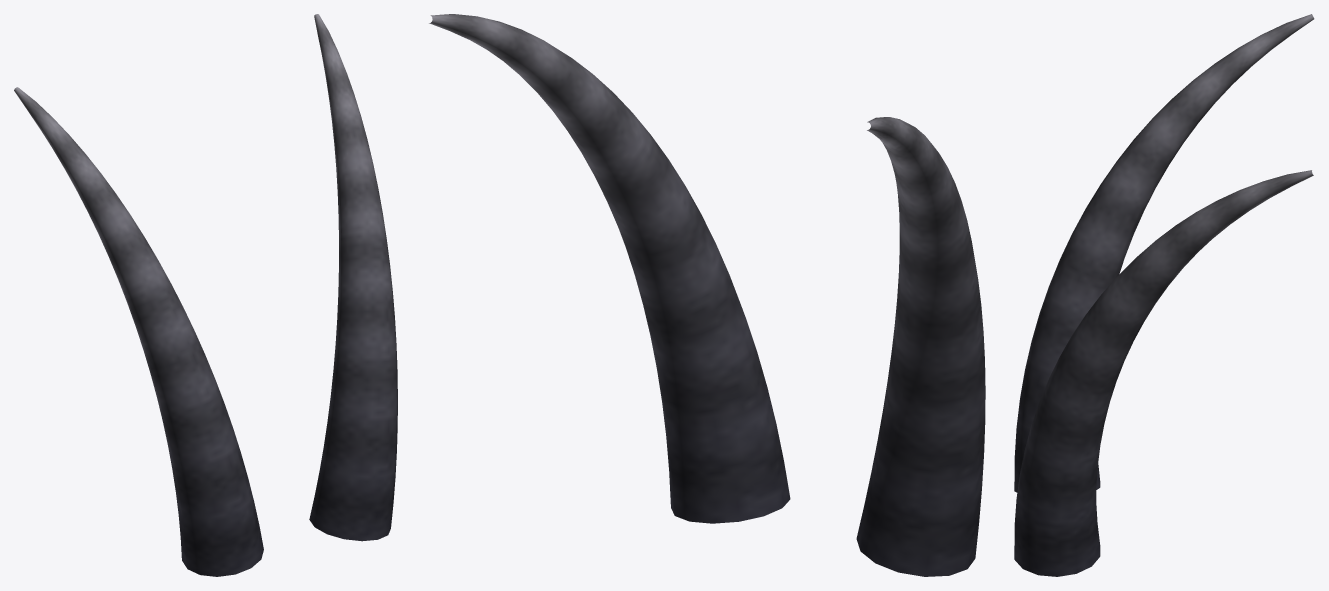
The model's file is darkjak-horns.glb.
3 views of the same model, side by side, from view 1: azimuth 30°, elevation 25°; view 2: azimuth 150°, elevation 25°; view 3: azimuth 270°, elevation 25° (orthographic). The views are drawn at different scales.
Visible parts, largest first — view 1: darkjak-horns; view 2: darkjak-horns; view 3: darkjak-horns.
Boxes of the visible parts, x1,y1,x2,y2 form: darkjak-horns: (14,14,397,576); darkjak-horns: (429,14,985,576); darkjak-horns: (1014,14,1314,576).
Bounding box in the file's own units: 0.3769 × 0.4806 × 0.3016.
1 material, 1 textured.
